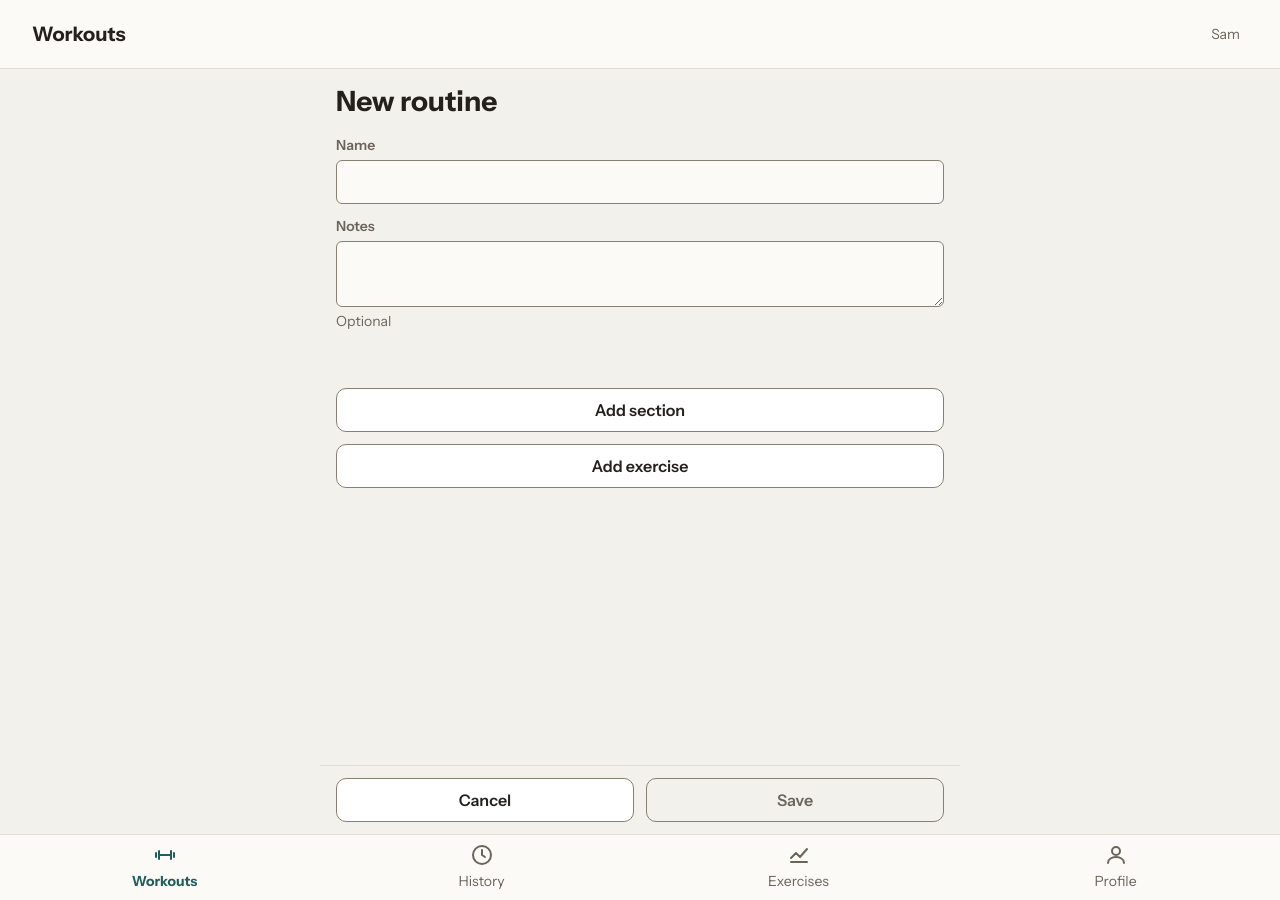
Test: 10.0 AC26 — adding exercises › appends from the picker, closes it, allows duplicates
This screenshot has width=1280, height=900.
Check: the heading "New routine" is shown, box [336,84,497,118]
Click the button "Add exercise".
click(640, 466)  # box [336,444,944,488]
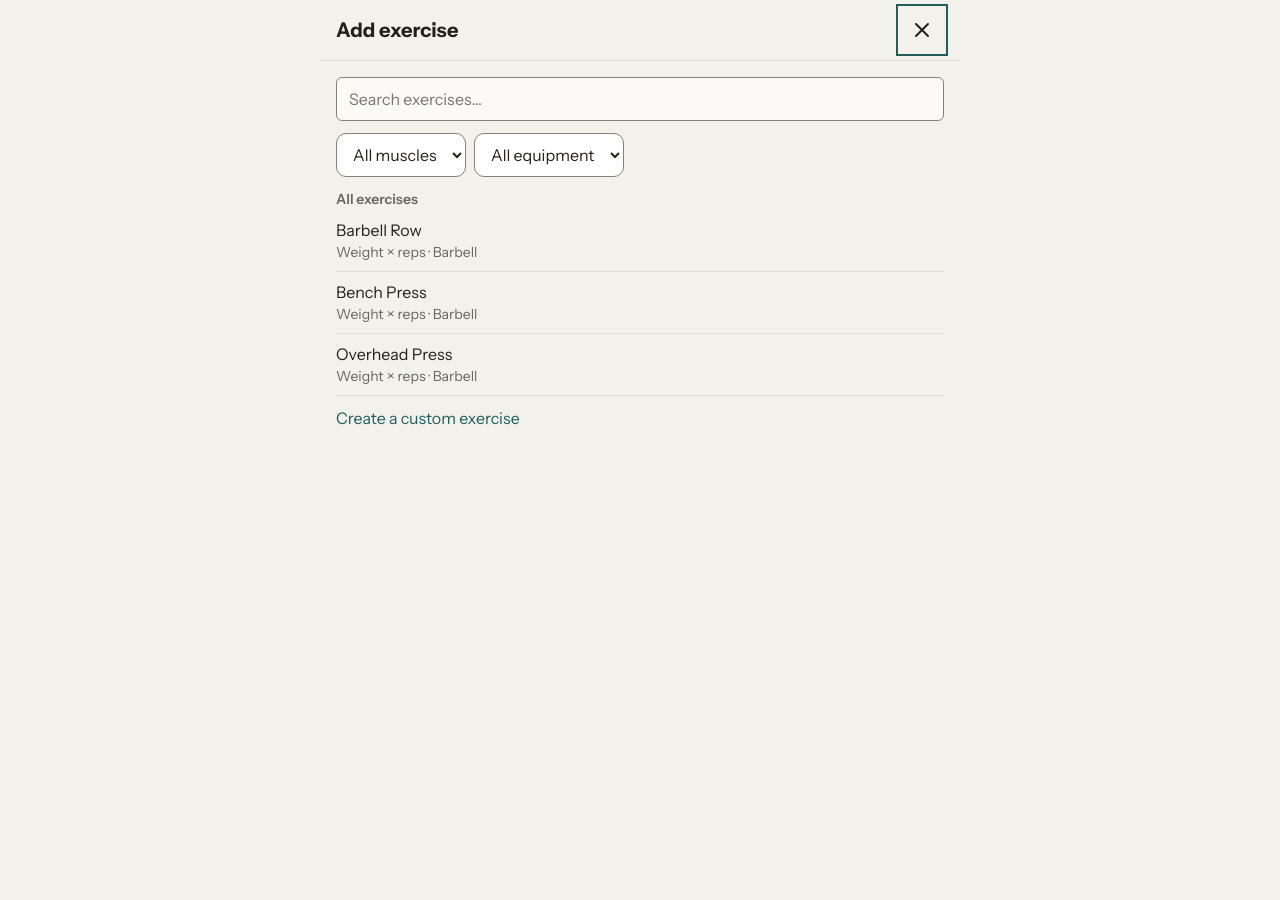
Click the button "Bench Press Weight × reps · Barbell".
click(381, 292)  # box [336,272,944,334]
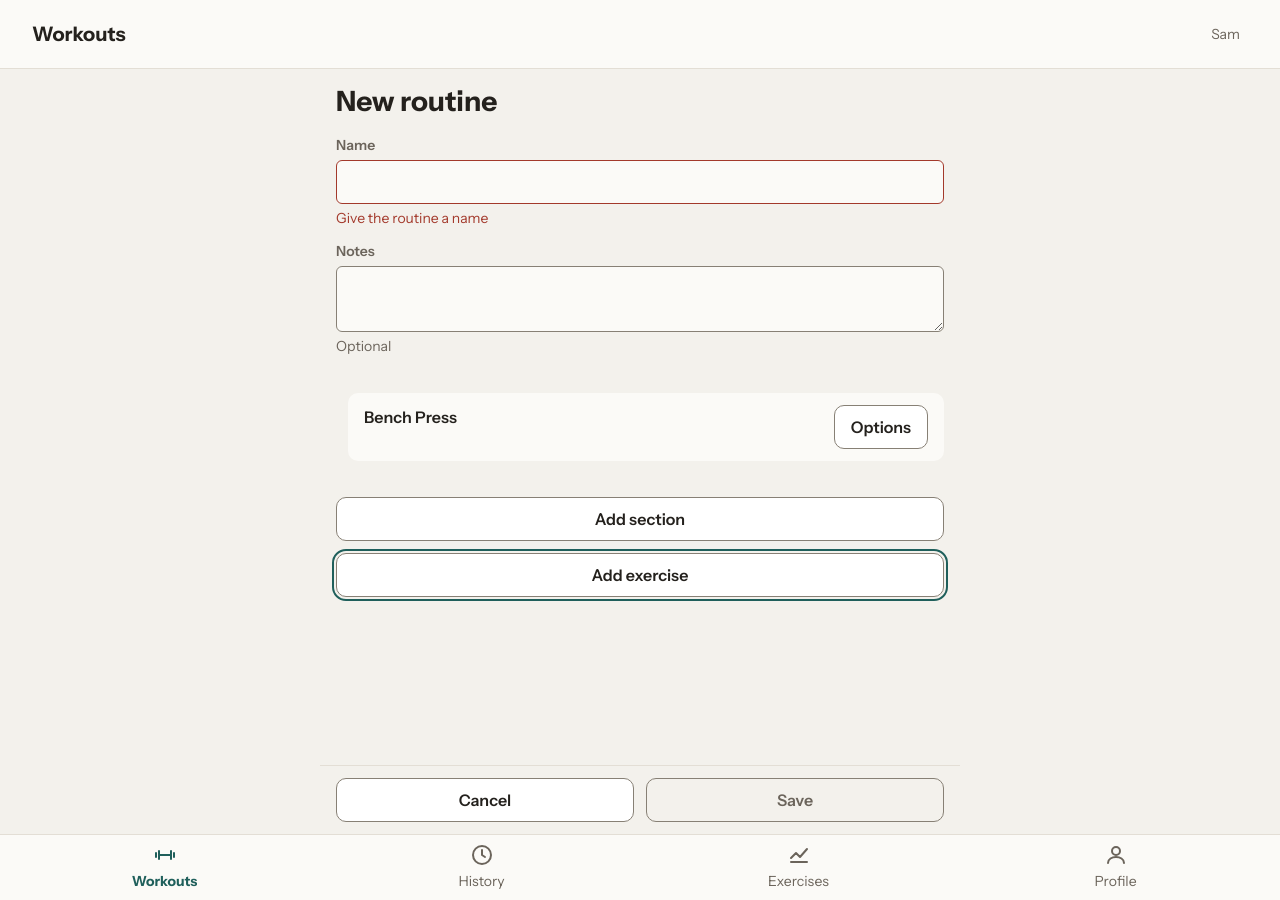
Click the button "Add exercise".
click(640, 575)  # box [336,553,944,597]
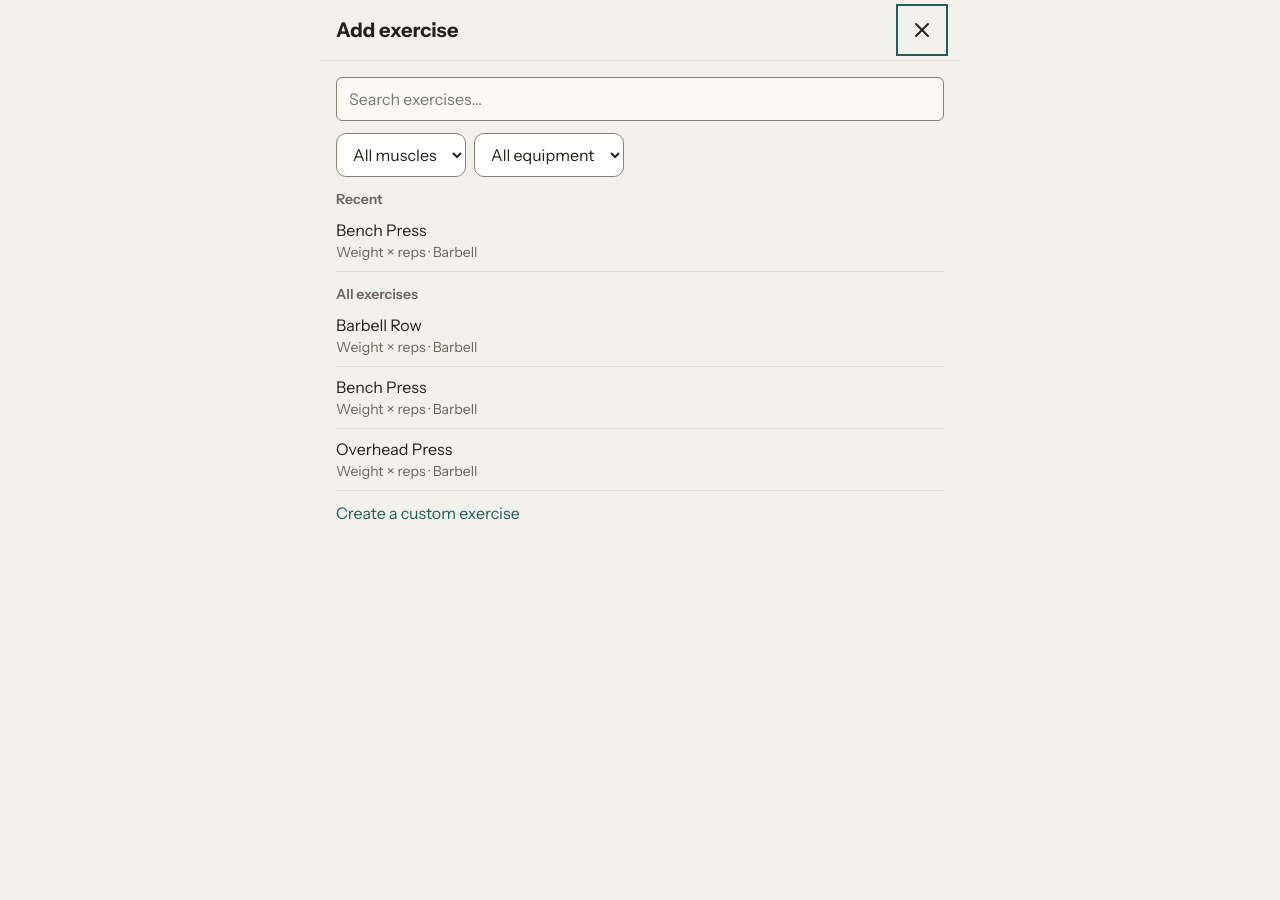
Click the button "Bench Press Weight × reps · Barbell" below "All exercises".
click(381, 387)  # box [336,367,944,429]
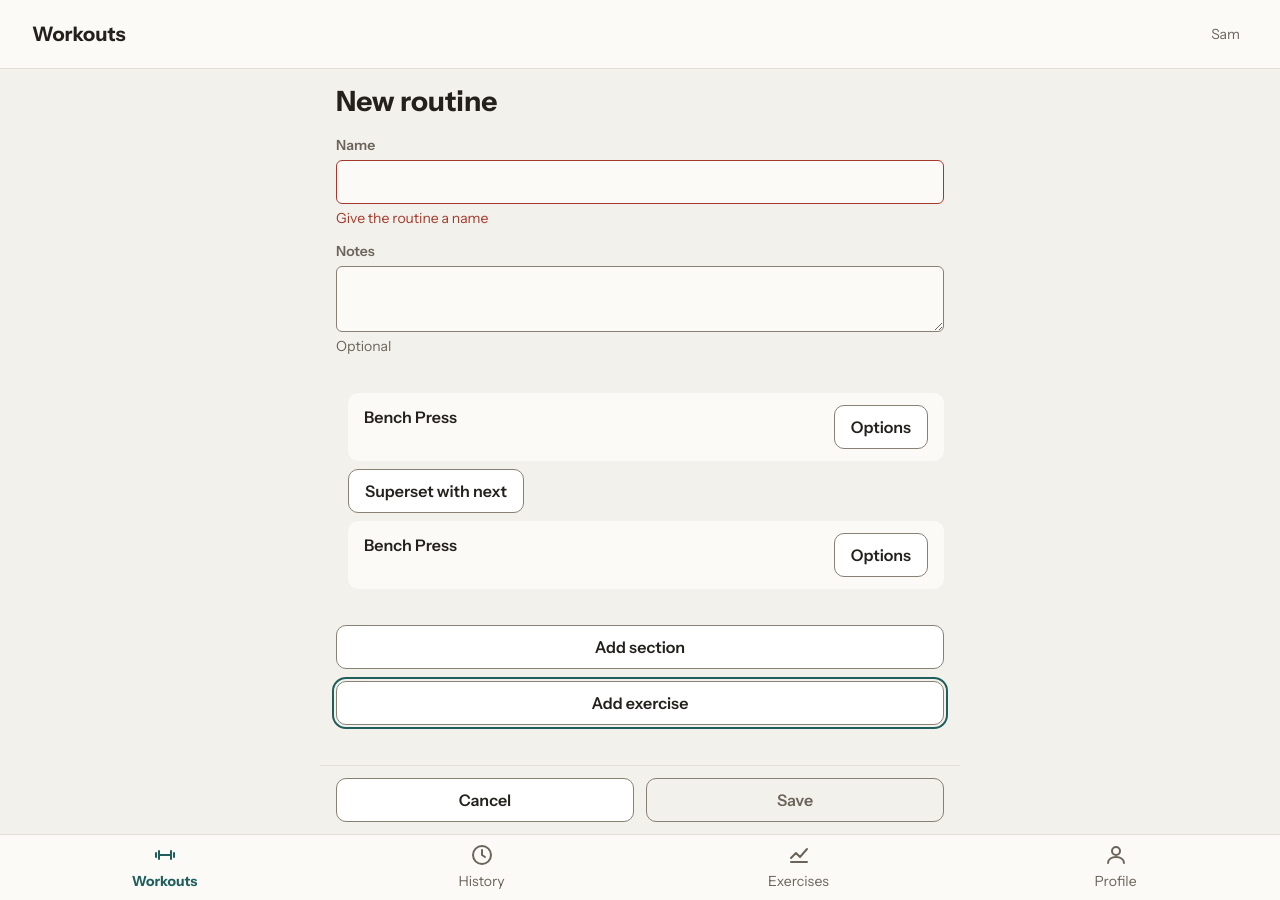
Check: the number of list items is 2, box [336,385,944,513]; [336,513,944,597]
